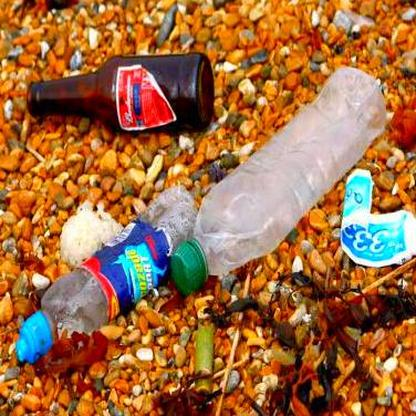plastic bottle: (171, 66, 388, 291), (15, 186, 197, 362)
